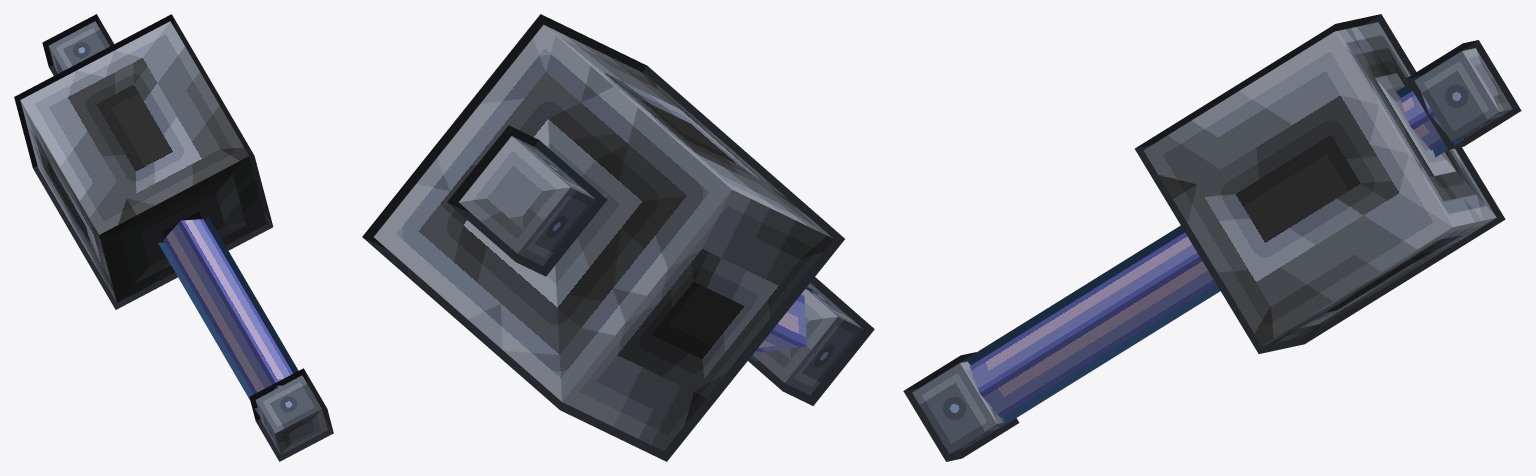
The model's file is mace.glb.
3 renders of one model, left to right at view 1: azimuth 30°, elevation 25°; view 2: azimuth 150°, elevation 25°; view 3: azimuth 270°, elevation 25°, orthographic. The views are drawn at different scales.
Parts seen in each view (by area): view 1: cube_3, cube_2, cube_outline_4, cube_0, cube_outline_5, cube_1, cube_outline_7, cube_outline_6; view 2: cube_3, cube_outline_4, cube_1, cube_0, cube_outline_6, cube_outline_7, cube_2; view 3: cube_3, cube_2, cube_outline_4, cube_1, cube_outline_5, cube_0, cube_outline_6, cube_outline_7.
Part boxes in pixels (bbox=[...]): cube_3: bbox=[20, 21, 266, 302]; cube_2: bbox=[163, 219, 292, 394]; cube_outline_4: bbox=[14, 14, 273, 309]; cube_0: bbox=[255, 375, 327, 454]; cube_outline_5: bbox=[158, 216, 298, 414]; cube_1: bbox=[48, 21, 109, 73]; cube_outline_7: bbox=[249, 368, 333, 461]; cube_outline_6: bbox=[42, 14, 113, 75]; cube_3: bbox=[374, 24, 833, 450]; cube_outline_4: bbox=[362, 14, 844, 461]; cube_1: bbox=[459, 136, 595, 265]; cube_0: bbox=[753, 283, 862, 395]; cube_outline_6: bbox=[447, 125, 607, 276]; cube_outline_7: bbox=[748, 277, 874, 405]; cube_2: bbox=[756, 294, 806, 352]; cube_3: bbox=[1143, 22, 1496, 345]; cube_2: bbox=[969, 91, 1445, 417]; cube_outline_4: bbox=[1135, 14, 1505, 353]; cube_1: bbox=[1414, 48, 1512, 141]; cube_outline_5: bbox=[960, 74, 1463, 427]; cube_0: bbox=[912, 361, 1004, 453]; cube_outline_6: bbox=[1405, 40, 1521, 149]; cube_outline_7: bbox=[903, 352, 1019, 461].
Bounding box in the file's own units: 3.15 × 4.78 × 5.88.
Materials: 1 (1 with a texture image).
